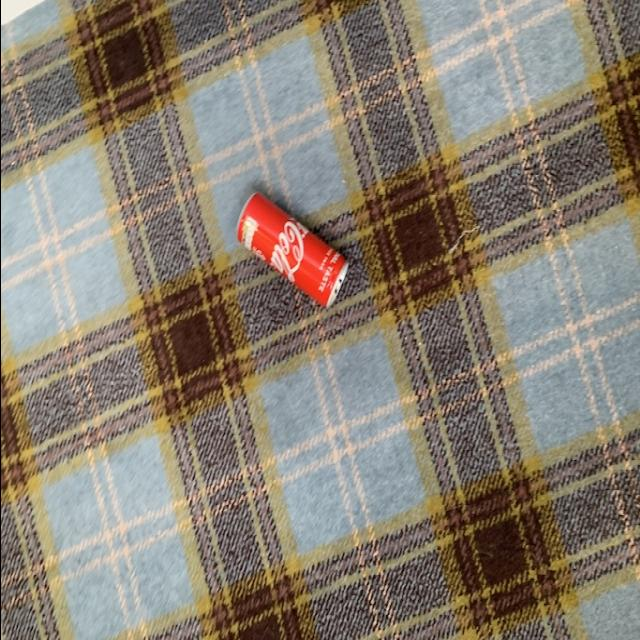litter: (234, 192, 350, 306)
